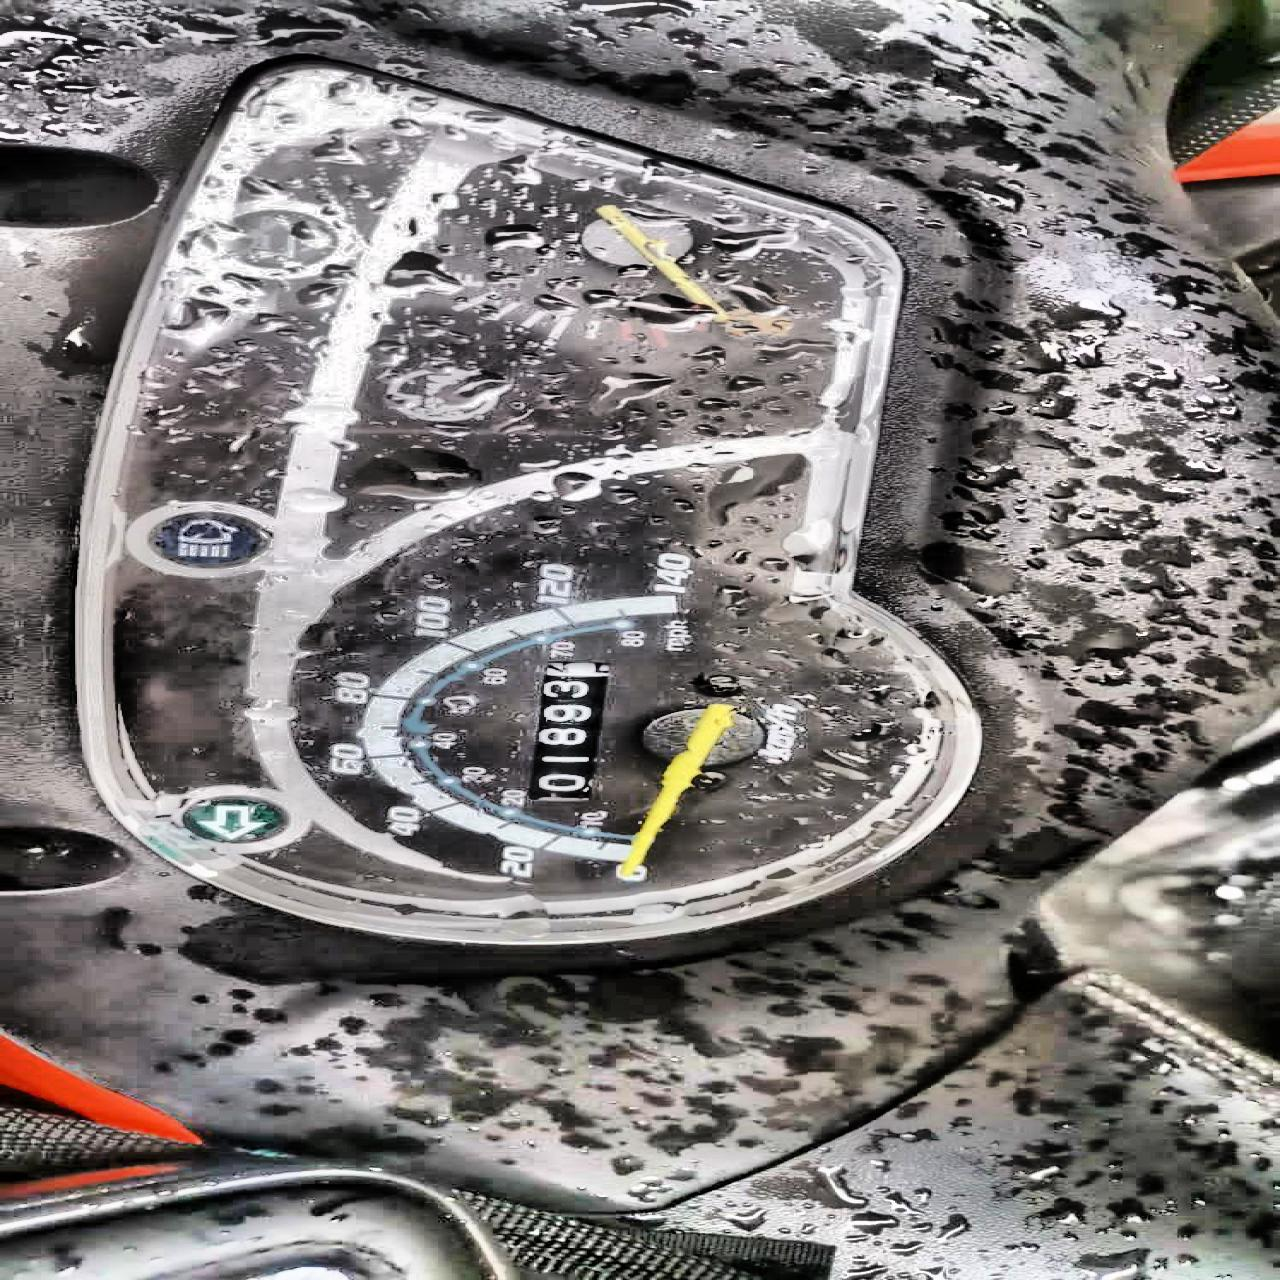0: (536, 774, 585, 791)
1: (539, 756, 588, 762)
3: (542, 680, 587, 697)
4: (537, 659, 574, 673)
8: (536, 727, 587, 744)
9: (540, 704, 591, 722)
odometer: (525, 659, 611, 801)
